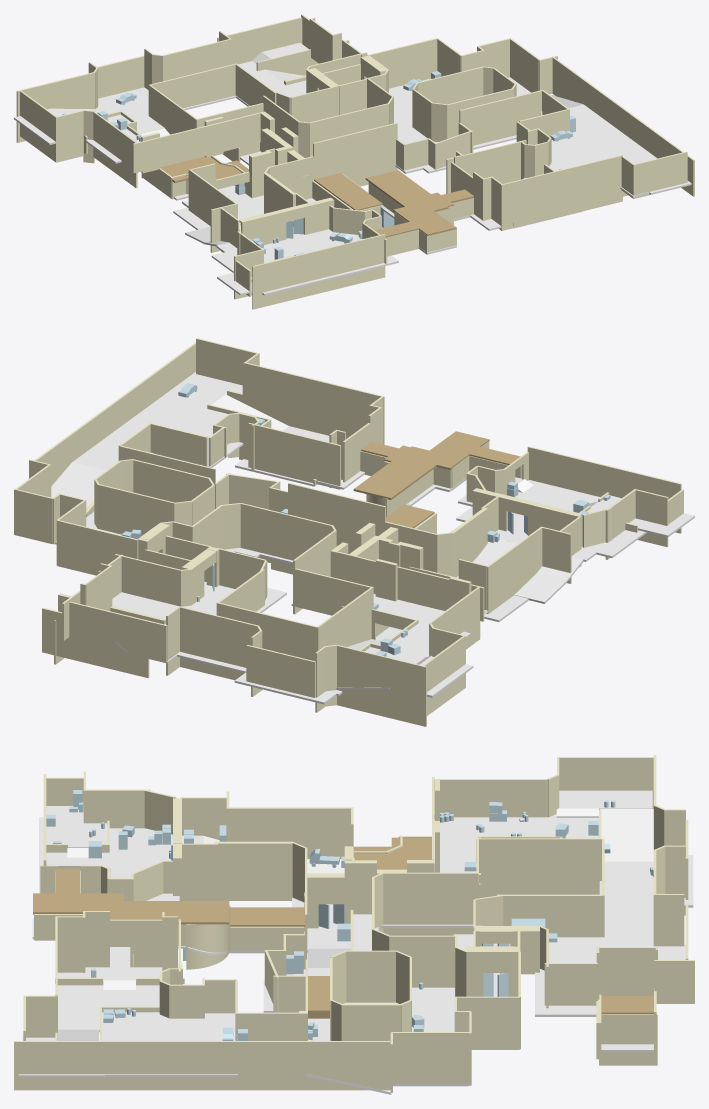
File: Dust2 Map.fbx
3 views of the same model, one above another, from view 1: azimuth 30°, elevation 25°; view 2: azimuth 150°, elevation 25°; view 3: azimuth 270°, elevation 25° (orthographic). The views are drawn at different scales.
Visible parts, largest first — view 1: Cube__7__1, Cube__34__1, Cube__4__1, Cube__120_, Cube__28__1, Cube, Cube__22__1, Cube__115_, Cube__13_, Cube__118_, Cube__17__1, Cube__100_ (+55 smaller); view 2: Cube__7__1, Cube__118_, Cube__4__1, Cube__34__1, Cube__11__1, Cube__109_, Cube__100_, Cube__81_, Cube__120_, Cube__17__1, Cube, Cube__19__1 (+59 smaller); view 3: Cube__4__1, Cube__119_, Cube__131_, Cube__153_, Cube__33__1, Cube__35_, Cube__13__1, Cube__123_, Cube, Cube__99_, Cube__121_, Cube__13_ (+65 smaller).
Boxes of the visible parts, x1,y1,x2,y2 form: Cube__7__1: [500, 155, 622, 230]; Cube__34__1: [252, 234, 385, 309]; Cube__4__1: [552, 57, 694, 196]; Cube__120_: [132, 112, 260, 173]; Cube__28__1: [333, 122, 397, 186]; Cube: [549, 123, 657, 170]; Cube__22__1: [459, 90, 541, 145]; Cube__115_: [148, 63, 236, 115]; Cube__13_: [211, 229, 398, 295]; Cube__118_: [16, 72, 94, 142]; Cube__17__1: [367, 38, 437, 88]; Cube__100_: [217, 17, 302, 64]; Cube__7__1: [243, 362, 384, 444]; Cube__118_: [337, 645, 426, 726]; Cube__4__1: [34, 342, 195, 485]; Cube__34__1: [527, 446, 681, 533]; Cube__11__1: [248, 423, 340, 489]; Cube__109_: [180, 606, 257, 680]; Cube__100_: [69, 601, 167, 663]; Cube__81_: [240, 503, 332, 568]; Cube__120_: [336, 551, 484, 621]; Cube__17__1: [57, 520, 138, 575]; Cube: [102, 397, 243, 467]; Cube__19__1: [97, 484, 174, 535]; Cube__4__1: [14, 1041, 390, 1090]; Cube__119_: [476, 838, 603, 897]; Cube__131_: [382, 872, 478, 935]; Cube__153_: [228, 807, 353, 858]; Cube__33__1: [215, 841, 292, 900]; Cube__35_: [599, 861, 664, 959]; Cube__13__1: [392, 1032, 469, 1085]; Cube__123_: [433, 779, 548, 817]; Cube: [101, 1012, 237, 1077]; Cube__99_: [497, 894, 602, 937]; Cube__121_: [557, 757, 653, 808]; Cube__13_: [39, 817, 179, 900].
Bounding box in the file's own units: 27433 × 4810 × 27082.
